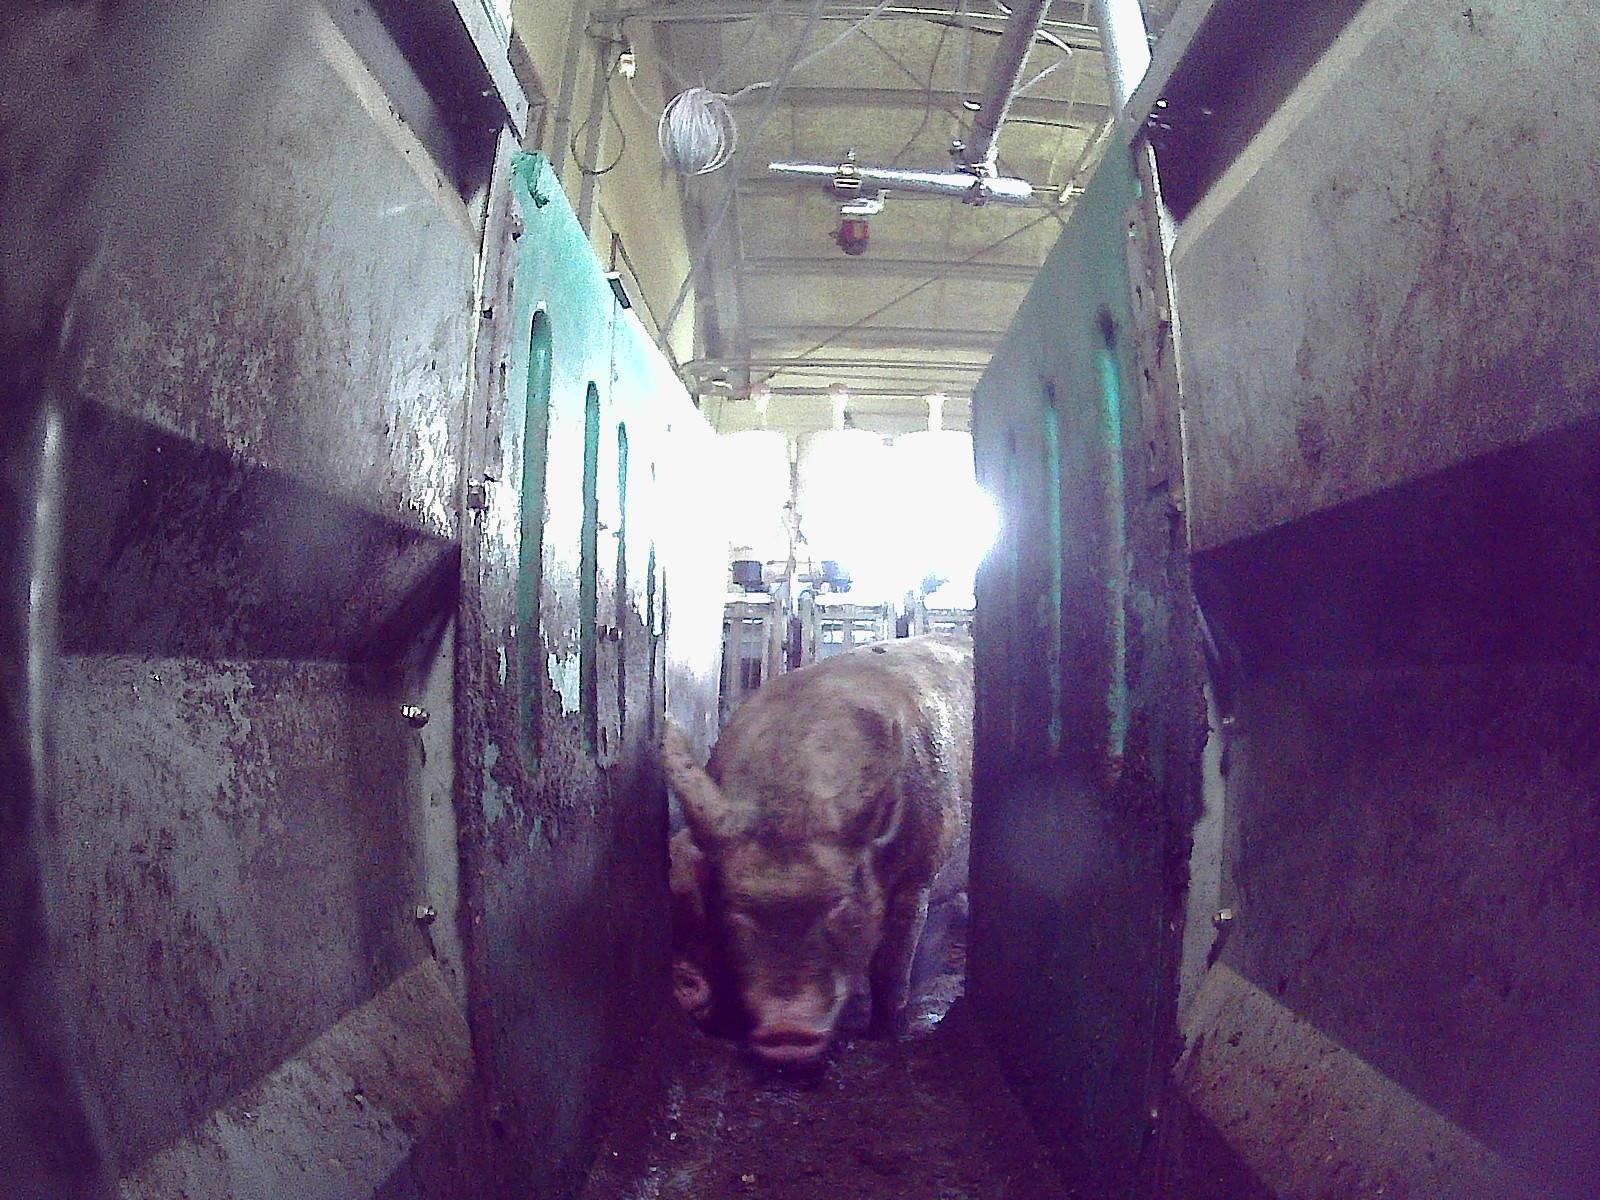Face: (696, 791, 895, 1061)
